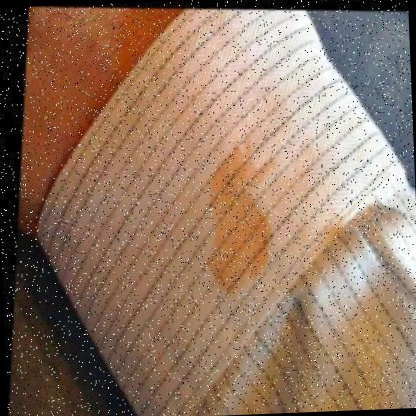kimchi: (195, 141, 296, 299)
